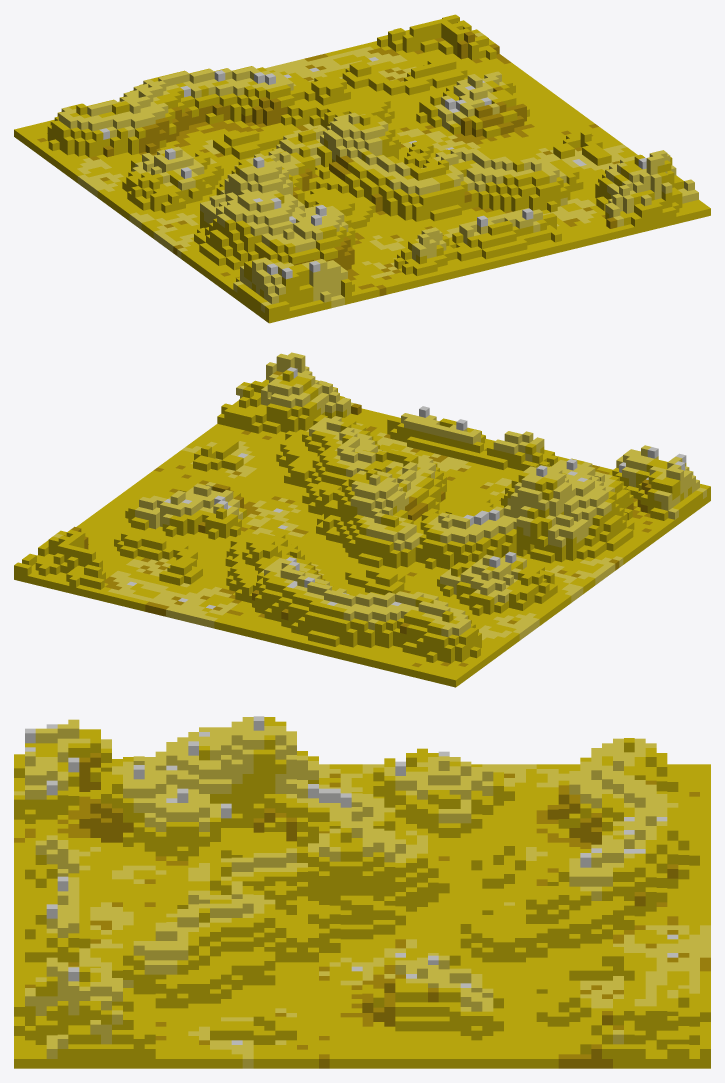
File: sand.gltf
The picture shows the model from 3 angles, top to bottom: view 1: azimuth 30°, elevation 25°; view 2: azimuth 150°, elevation 25°; view 3: azimuth 270°, elevation 25°; orthographic projection. The views are drawn at different scales.
Visible parts, largest first — view 1: ground; view 2: ground; view 3: ground.
Boxes of the visible parts, left/top/right/bottom form: ground: left=14, top=14, right=710, bottom=323; ground: left=14, top=352, right=710, bottom=687; ground: left=14, top=716, right=710, bottom=1068.
Size of the model in its own units: 64 by 11 by 64.
